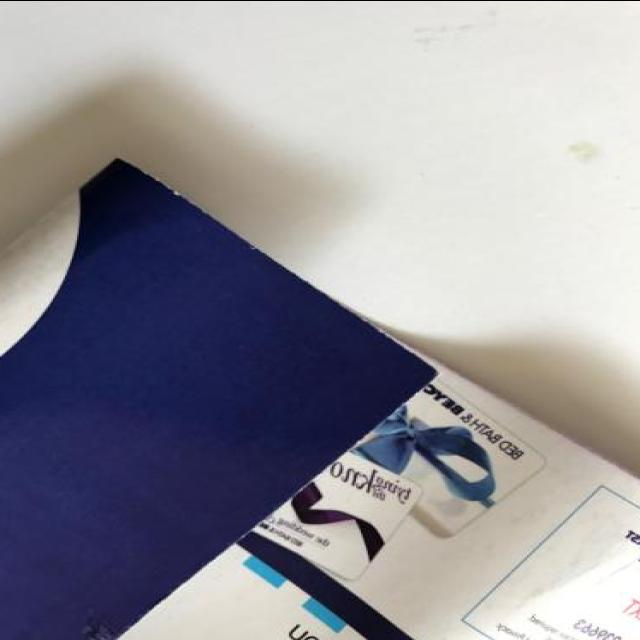kertas: (0, 151, 640, 640)
